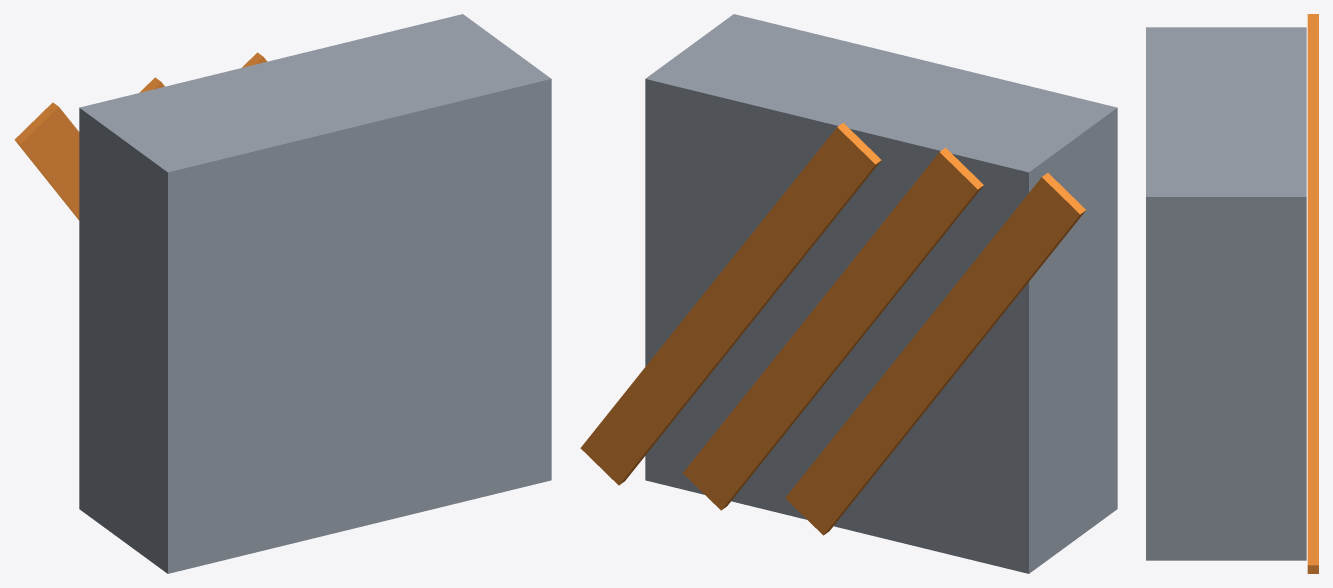
The model's file is destruction.target-block.glb.
3 renders of one model, left to right at view 1: azimuth 30°, elevation 25°; view 2: azimuth 150°, elevation 25°; view 3: azimuth 270°, elevation 25°, orthographic. The views are drawn at different scales.
Visible parts, largest first — view 1: block, stripe.left; view 2: block, stripe.center, stripe.right, stripe.left; view 3: block, stripe.right, stripe.center, stripe.left.
Part boxes in pixels (x1,y1,x2,y2): block: [79, 14, 551, 573]; stripe.left: [14, 102, 79, 220]; block: [645, 14, 1117, 573]; stripe.center: [683, 147, 983, 510]; stripe.right: [580, 122, 881, 485]; stripe.left: [785, 173, 1085, 535]; block: [1146, 27, 1306, 560]; stripe.right: [1307, 104, 1318, 573]; stripe.center: [1307, 59, 1318, 104]; stripe.left: [1307, 14, 1318, 59].
Size of the model in its own units: 2.34 by 1.85 by 0.775.
